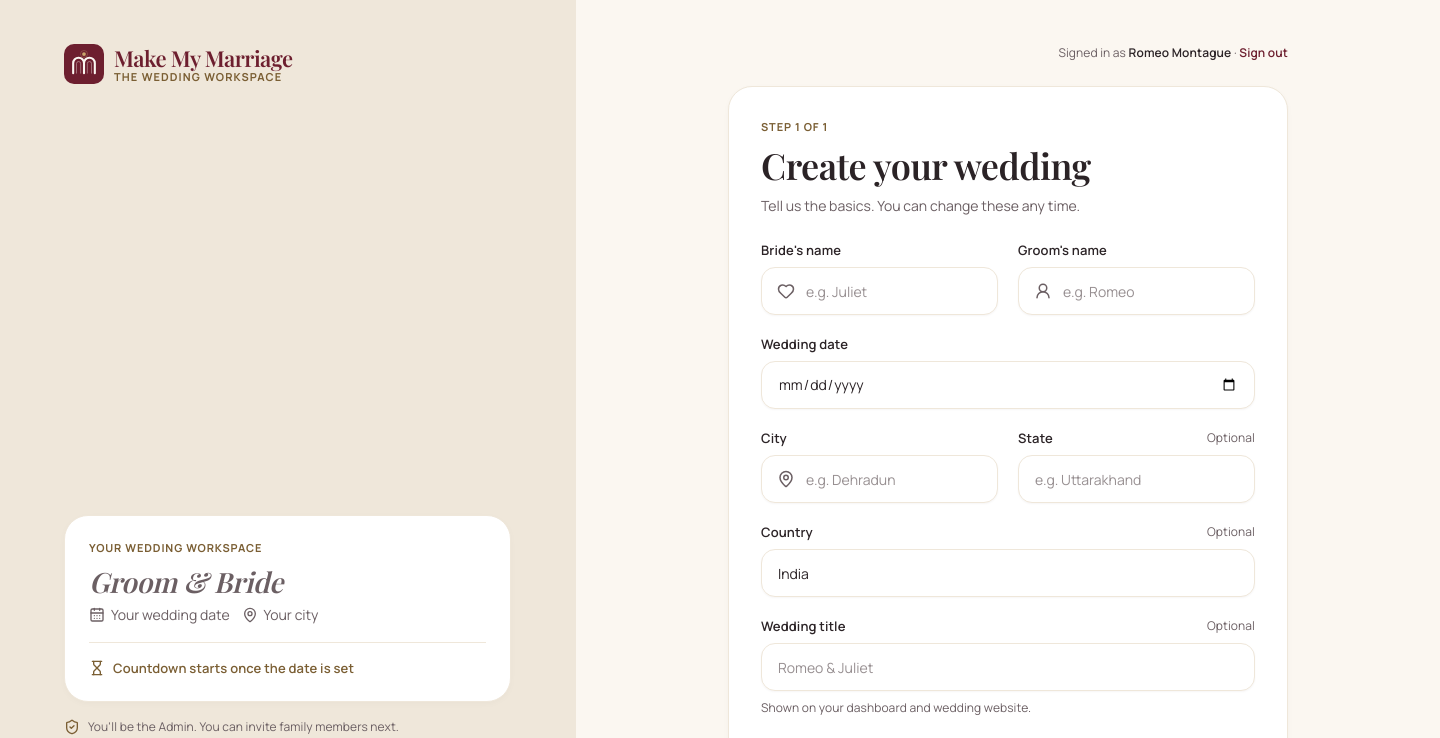
Test: <CreateWeddingScreen /> › offers the dashboard when the user already has a wedding
This screenshot has width=1440, height=738.
Type "Juliet" into the field labelled "Bride's name" at {"x": 880, "y": 291}, box [761, 267, 998, 315]
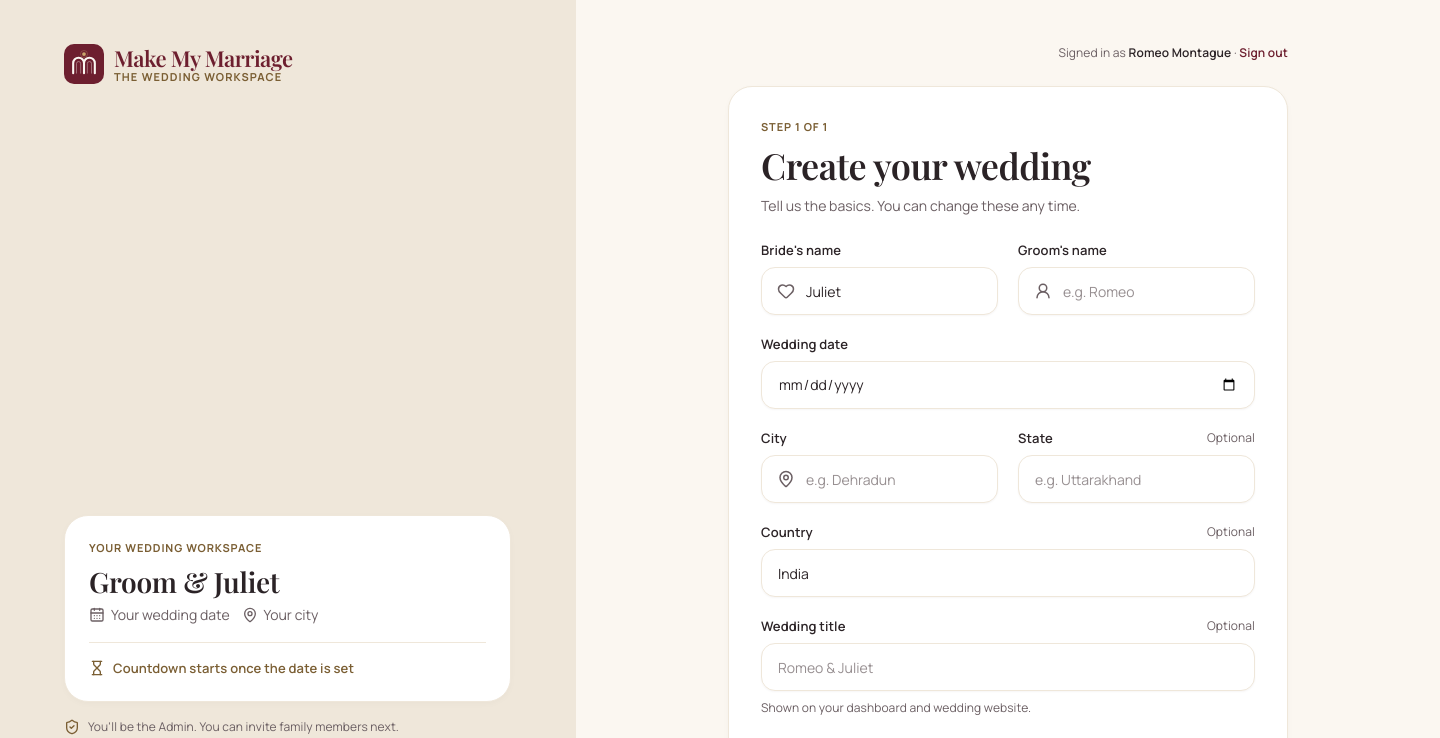
Type "Romeo" into the field labelled "Groom's name" at {"x": 1136, "y": 291}, box [1018, 267, 1255, 315]
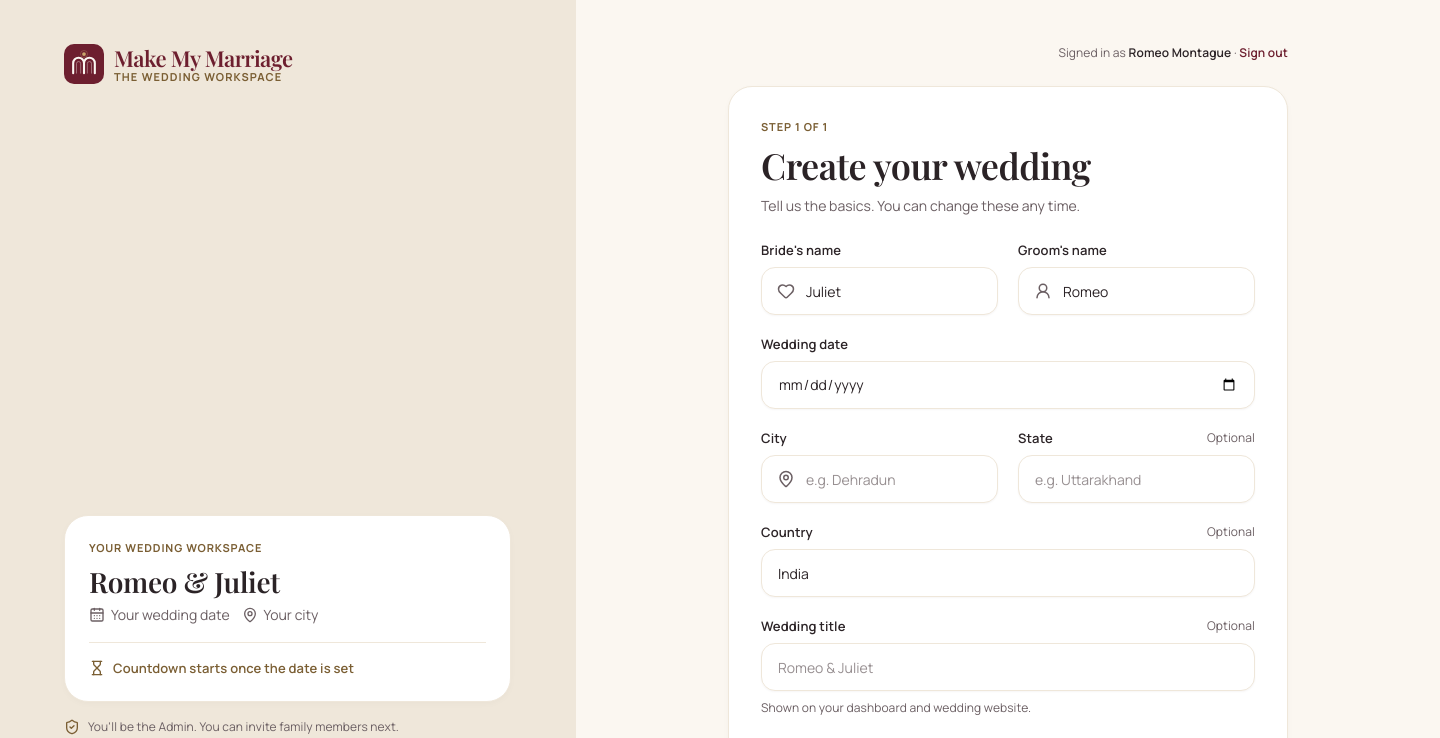
Type "2027-02-14" into the date field labelled "Wedding date" at {"x": 1008, "y": 385}, box [761, 361, 1255, 409]
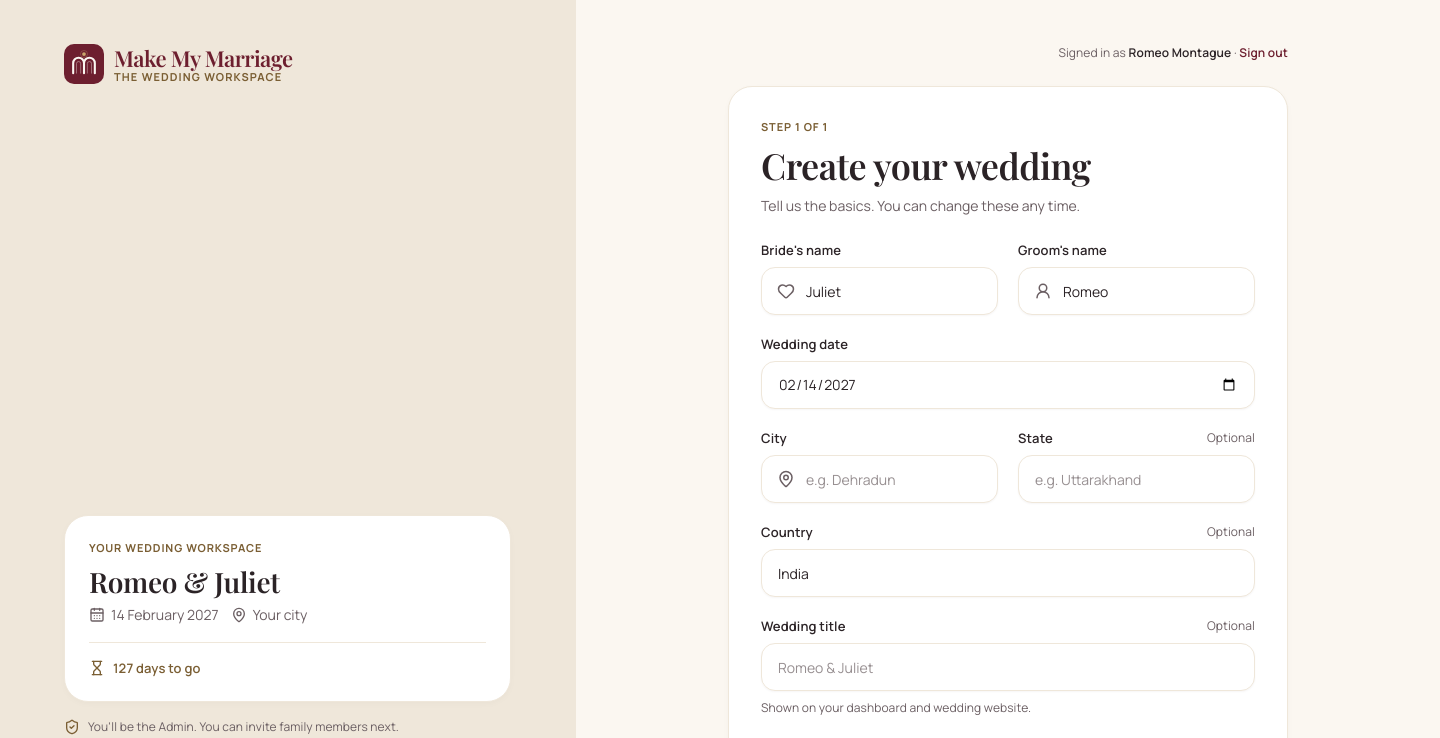
Type "Dehradun" into the field labelled "City" at {"x": 880, "y": 479}, box [761, 455, 998, 503]
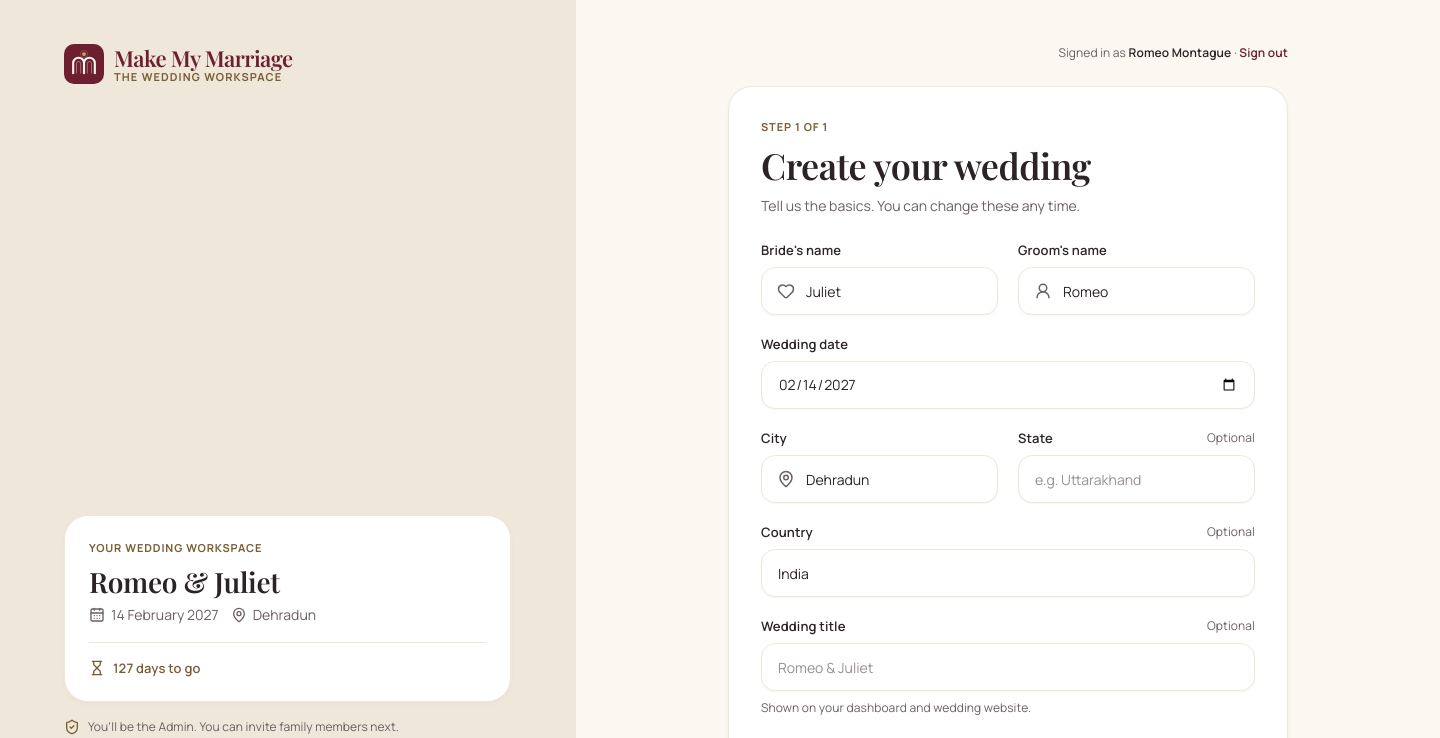
Type "Uttarakhand" into the field labelled "State" at {"x": 1136, "y": 479}, box [1018, 455, 1255, 503]
(page scrolled)
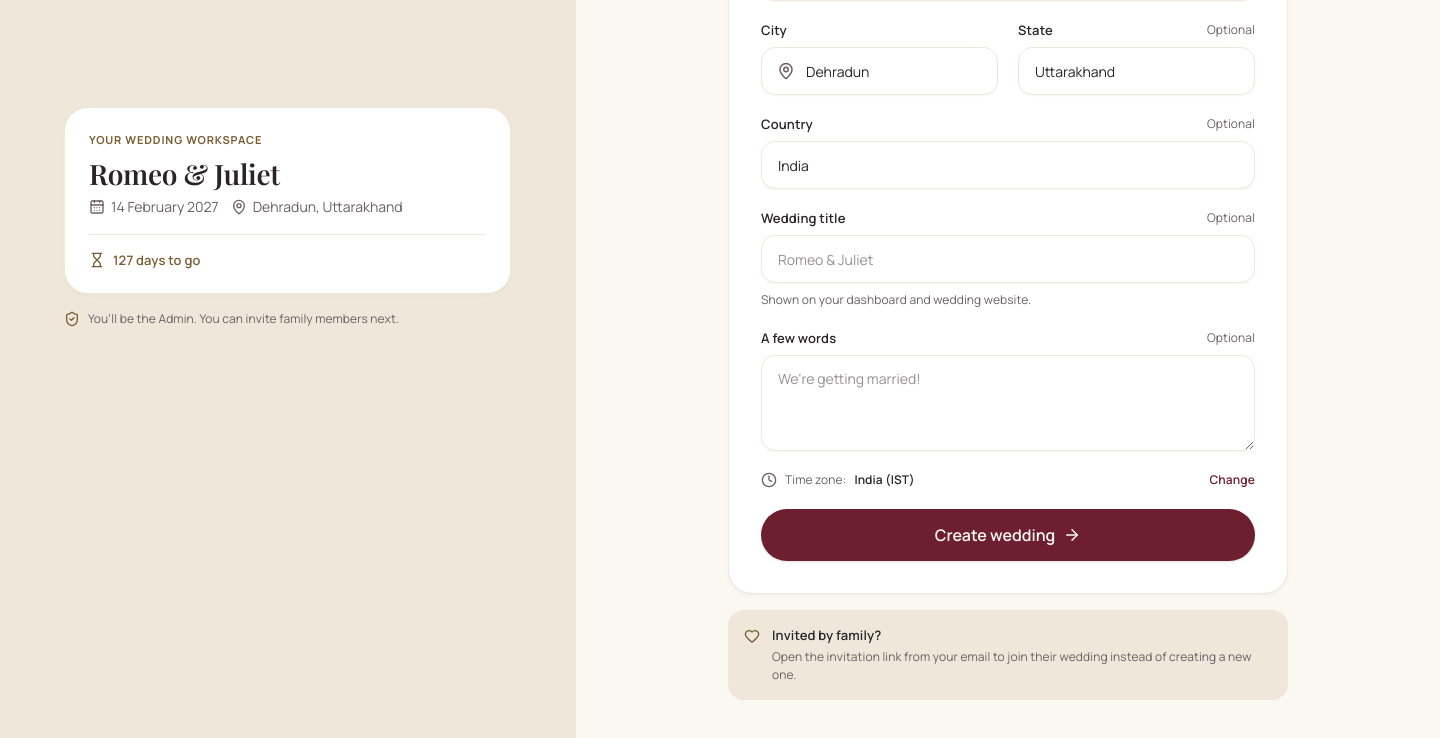
Click the button "Create wedding" at {"x": 1008, "y": 535}, box [761, 509, 1255, 561]
(page scrolled)
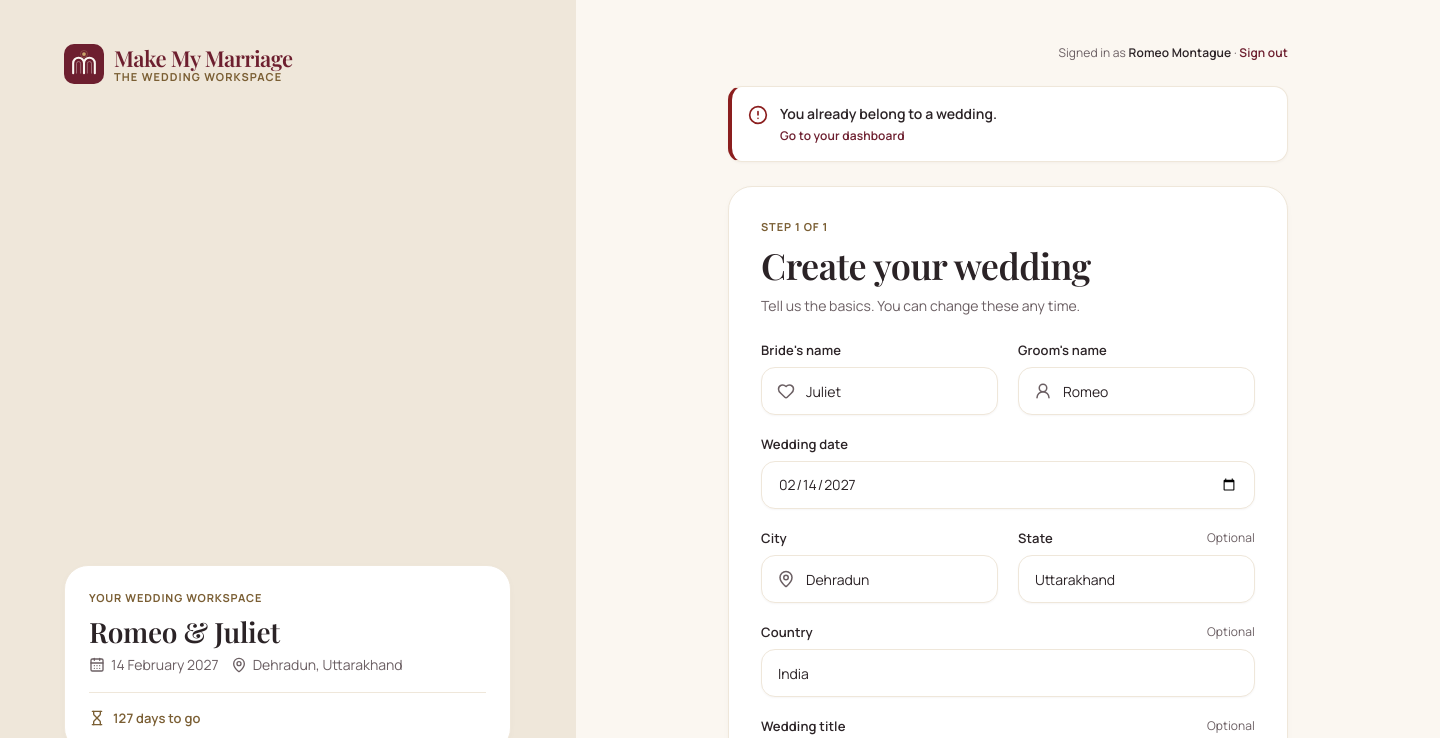
Result: the message shows "You already belong to a wedding." at [780, 104, 997, 123]
